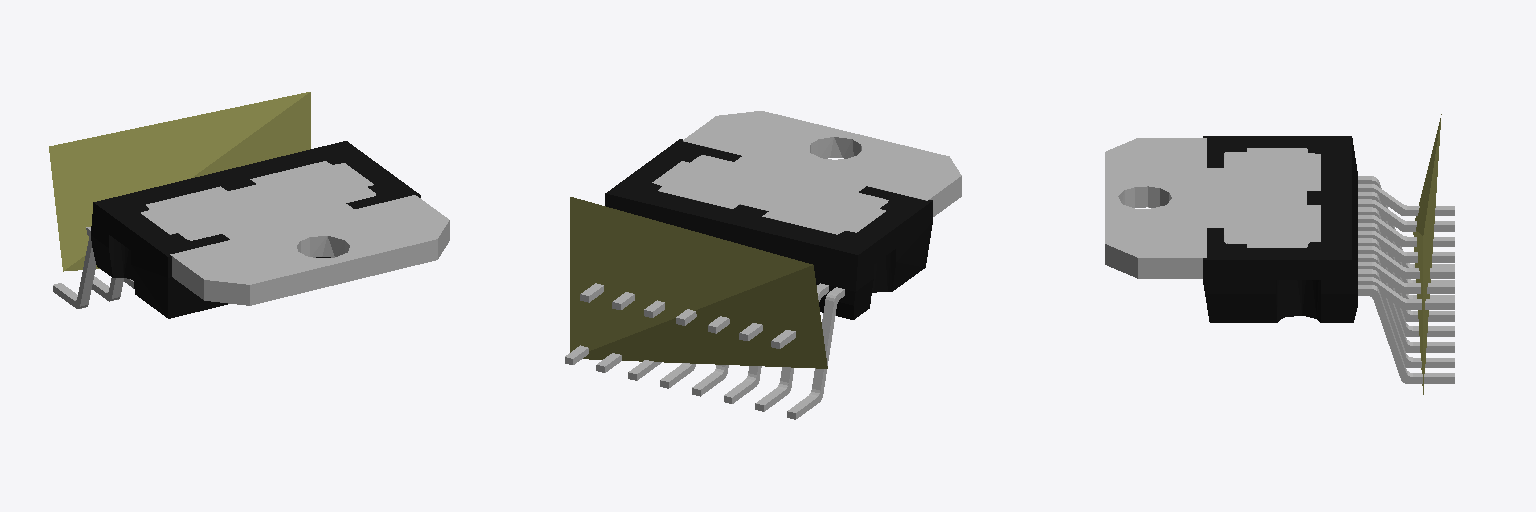
The model's file is OBJ_NEW_PCB.obj.
The picture shows the model from 3 angles: view 1: azimuth 30°, elevation 25°; view 2: azimuth 150°, elevation 25°; view 3: azimuth 270°, elevation 25°; orthographic projection.
Size of the model in its own units: 79.53 by 48.78 by 95.56.